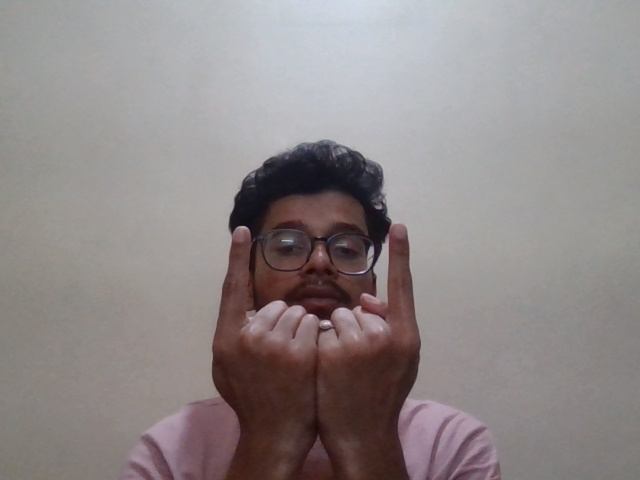when: (204, 212, 457, 407)
